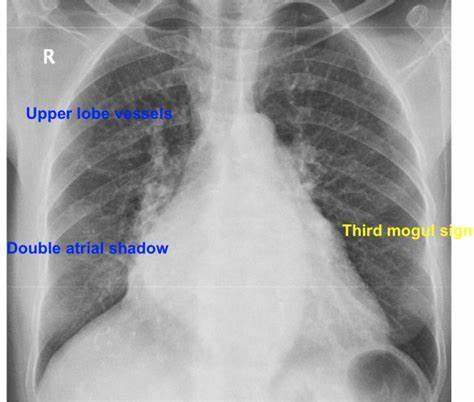telestration: (6, 241, 168, 257), (341, 222, 472, 241), (24, 104, 174, 120)
